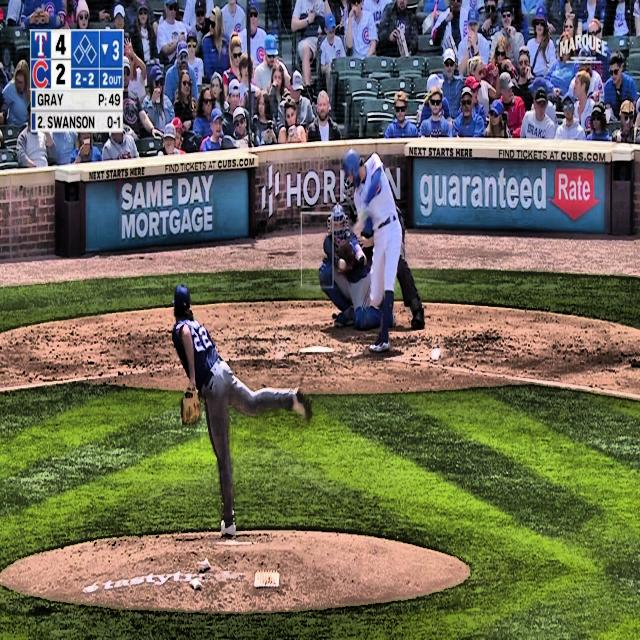baseball: (338, 258, 346, 270)
